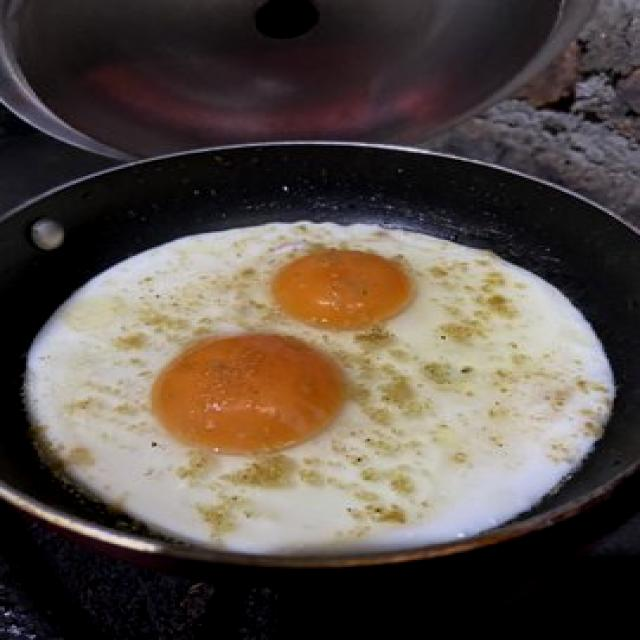telur ceplok: (19, 222, 616, 558)
